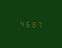eight: (30, 19, 35, 28)
four: (18, 19, 23, 27)
seven: (36, 20, 41, 28)
six: (24, 19, 29, 27)
